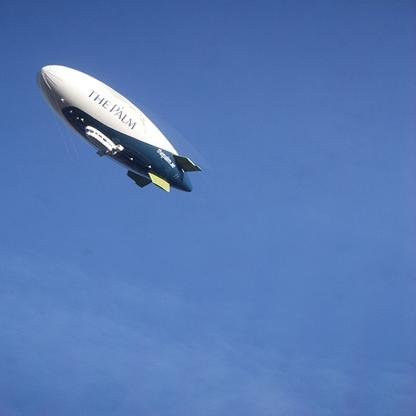Airship: (35, 63, 206, 198)
